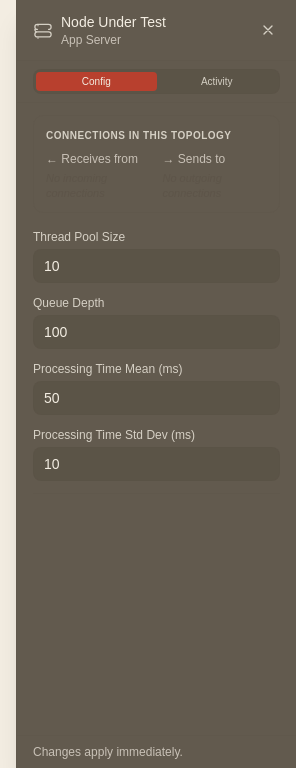
Scenario: NodeConfigPanel activity tab › reports no completions when the window recorded none
The image size is (296, 768).
Click the button "Activity": [217, 82] box [156,72,277,91]
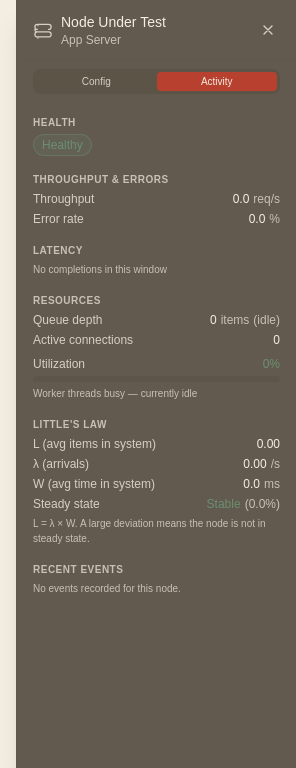
Expected: the text "No completions in this window" is shown, [33,264,167,275]
